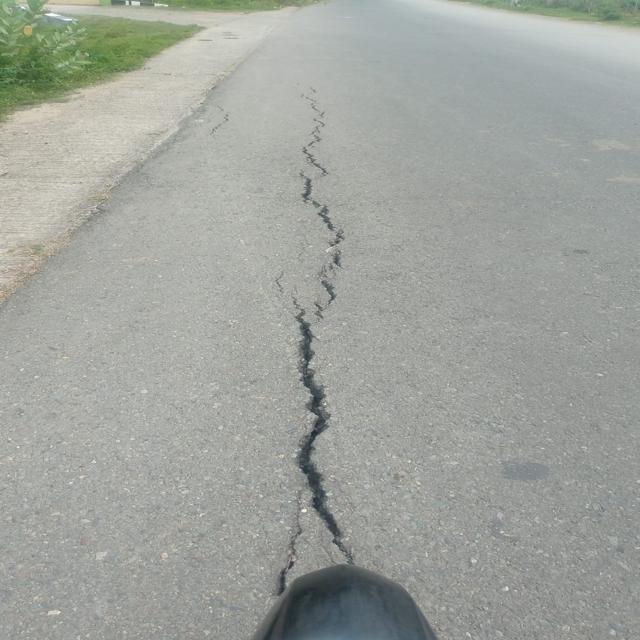Memanjang: (284, 79, 358, 561)
